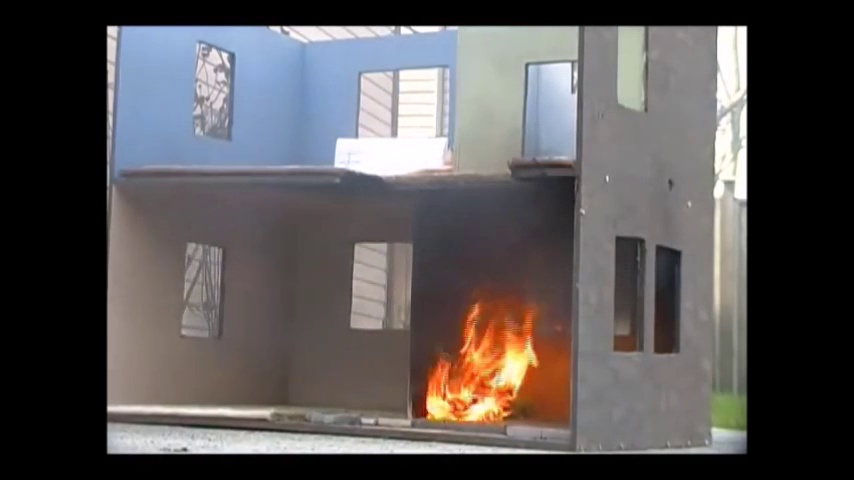fire: (427, 306, 533, 416)
